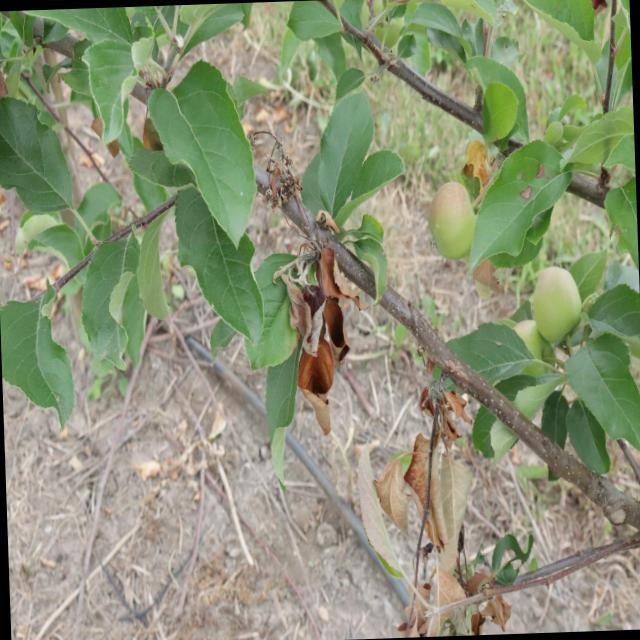-FireBlight-: (356, 362, 510, 635), (270, 236, 362, 442)
